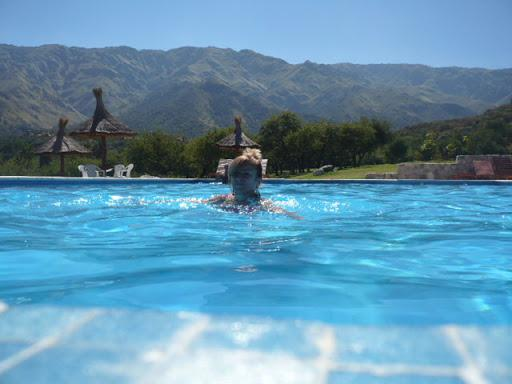swimmer: (210, 146, 300, 220)
